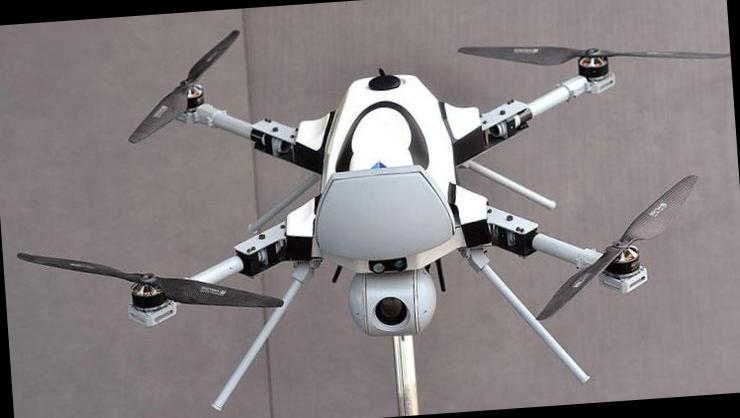drone: (3, 18, 723, 400)
